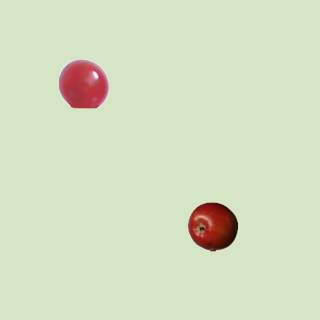Apple Braeburn: (187, 201, 237, 251)
Redcurrant: (58, 58, 108, 108)
